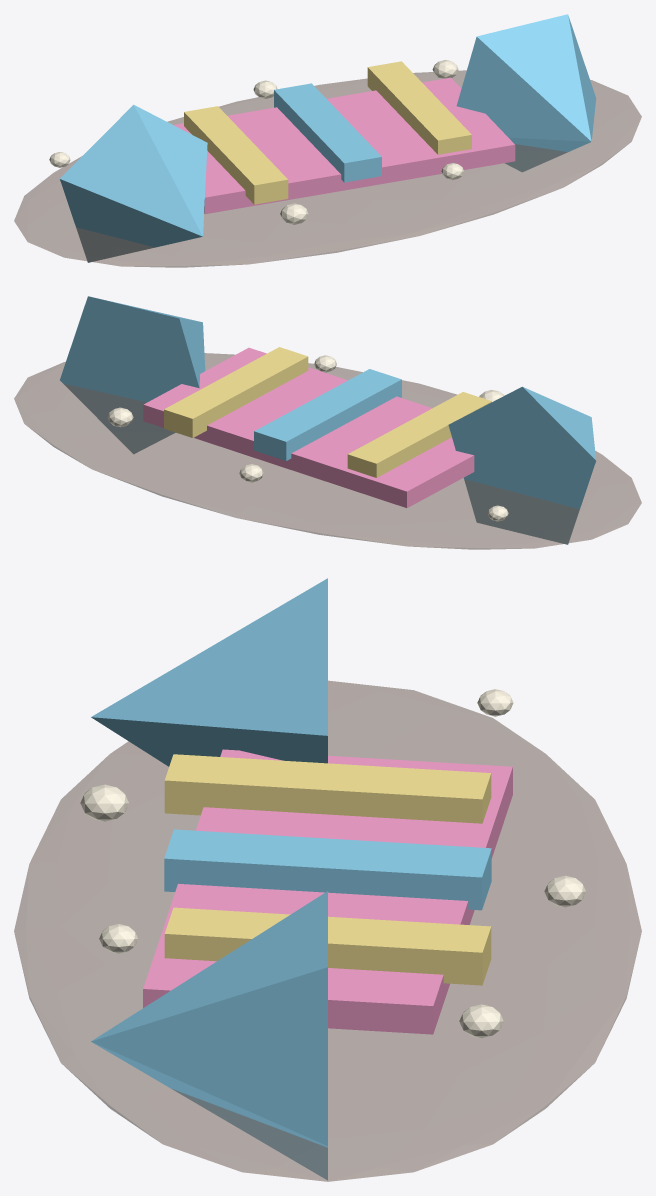
File: sugar_source_candy_wrapper_v1.glb
3 renders of one model, top to bottom at view 1: azimuth 30°, elevation 25°; view 2: azimuth 150°, elevation 25°; view 3: azimuth 270°, elevation 25°, orthographic. The views are drawn at different scales.
Parts seen in each view (by area): view 1: soft_shadow_under_wrapper, left_twisted_wrapper_end, crinkled_wrapper_center, right_twisted_wrapper_end, wrapper_color_strip_1, wrapper_color_strip_0, wrapper_color_strip_2, loose_sugar_crumb_0, loose_sugar_crumb_2; view 2: soft_shadow_under_wrapper, left_twisted_wrapper_end, crinkled_wrapper_center, right_twisted_wrapper_end, wrapper_color_strip_1, wrapper_color_strip_2, wrapper_color_strip_0, loose_sugar_crumb_2; view 3: soft_shadow_under_wrapper, right_twisted_wrapper_end, crinkled_wrapper_center, left_twisted_wrapper_end, wrapper_color_strip_1, wrapper_color_strip_0, wrapper_color_strip_2, loose_sugar_crumb_0, loose_sugar_crumb_2, loose_sugar_crumb_4, loose_sugar_crumb_1.
Boxes of the visible parts, x1,y1,x2,y2 form: soft_shadow_under_wrapper: [14, 70, 641, 267]; left_twisted_wrapper_end: [60, 104, 207, 262]; crinkled_wrapper_center: [173, 77, 515, 214]; right_twisted_wrapper_end: [456, 14, 596, 172]; wrapper_color_strip_1: [274, 83, 381, 182]; wrapper_color_strip_0: [184, 106, 288, 204]; wrapper_color_strip_2: [367, 61, 471, 154]; loose_sugar_crumb_0: [280, 203, 308, 224]; loose_sugar_crumb_2: [432, 60, 458, 78]; soft_shadow_under_wrapper: [14, 353, 641, 549]; left_twisted_wrapper_end: [448, 386, 596, 544]; crinkled_wrapper_center: [143, 347, 474, 507]; right_twisted_wrapper_end: [60, 296, 205, 453]; wrapper_color_strip_1: [254, 369, 401, 460]; wrapper_color_strip_2: [164, 347, 308, 437]; wrapper_color_strip_0: [347, 392, 491, 477]; loose_sugar_crumb_2: [107, 407, 133, 427]; soft_shadow_under_wrapper: [14, 680, 641, 1181]; right_twisted_wrapper_end: [91, 891, 327, 1180]; crinkled_wrapper_center: [143, 749, 512, 1034]; left_twisted_wrapper_end: [91, 578, 327, 766]; wrapper_color_strip_1: [164, 829, 491, 910]; wrapper_color_strip_0: [164, 754, 491, 823]; wrapper_color_strip_2: [164, 907, 491, 985]; loose_sugar_crumb_0: [80, 784, 128, 821]; loose_sugar_crumb_2: [459, 1004, 503, 1038]; loose_sugar_crumb_4: [544, 875, 585, 907]; loose_sugar_crumb_1: [99, 924, 137, 953].
Size of the model in its own units: 1.7 by 0.44 by 0.9.
